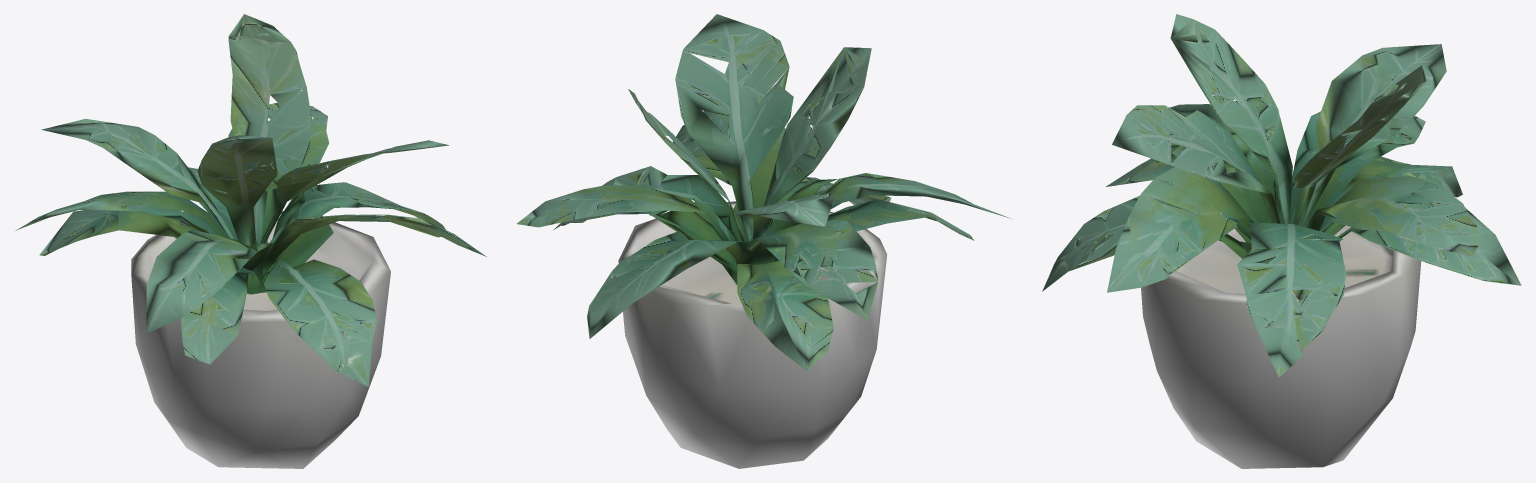
File: glb-luminous-plant.glb
The picture shows the model from 3 angles, left to right: view 1: azimuth 30°, elevation 25°; view 2: azimuth 150°, elevation 25°; view 3: azimuth 270°, elevation 25°; orthographic projection. The views are drawn at different scales.
Visible parts, largest first — view 1: tripo_node_0e2111b3-ccdc-45a9-bb78-81d24ff8e259; view 2: tripo_node_0e2111b3-ccdc-45a9-bb78-81d24ff8e259; view 3: tripo_node_0e2111b3-ccdc-45a9-bb78-81d24ff8e259.
Boxes of the visible parts, x1,y1,x2,y2 form: tripo_node_0e2111b3-ccdc-45a9-bb78-81d24ff8e259: [15, 14, 486, 468]; tripo_node_0e2111b3-ccdc-45a9-bb78-81d24ff8e259: [516, 14, 1011, 468]; tripo_node_0e2111b3-ccdc-45a9-bb78-81d24ff8e259: [1042, 14, 1521, 468].
Size of the model in its own units: 0.9822 by 0.9128 by 0.993.
1 material, 1 textured.
